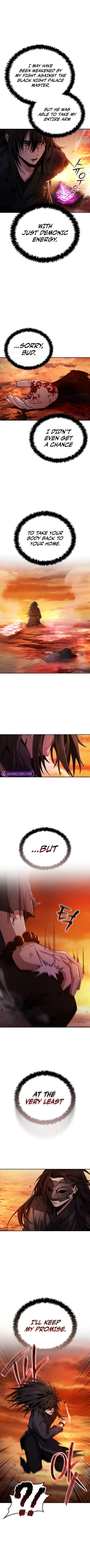bubbles: (4, 43, 87, 139), (9, 201, 82, 263), (12, 509, 79, 567), (11, 1296, 78, 1354), (13, 1069, 78, 1126), (27, 411, 88, 465), (2, 324, 55, 371), (18, 826, 72, 871), (3, 1478, 53, 1522)
